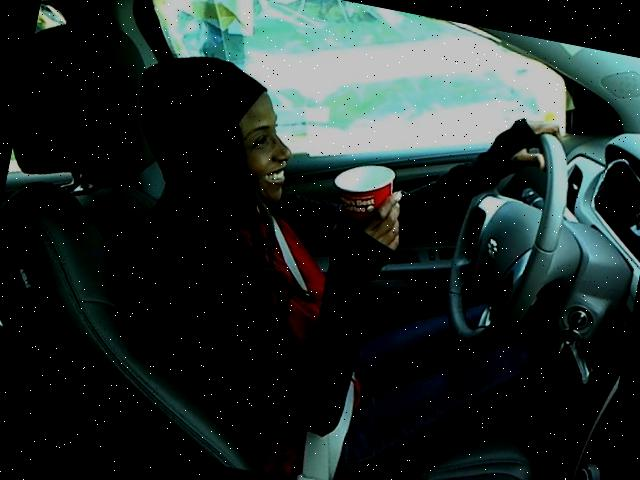c4 - Drinking: (63, 23, 593, 479)
